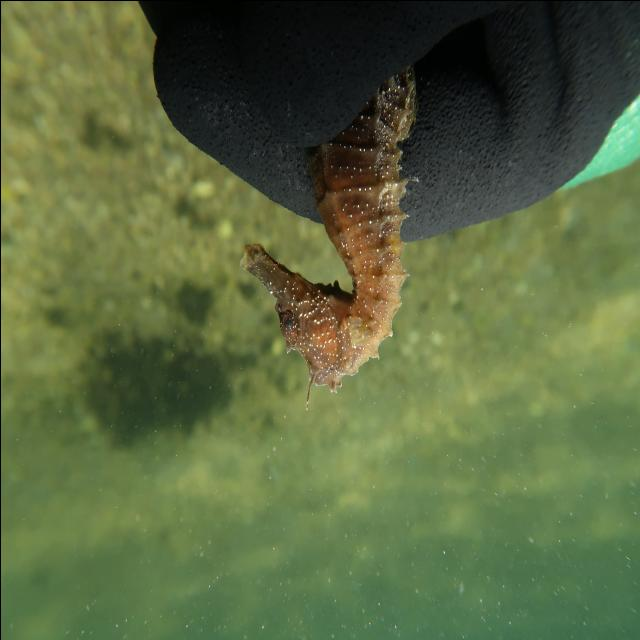Guttu: (235, 234, 353, 390)
